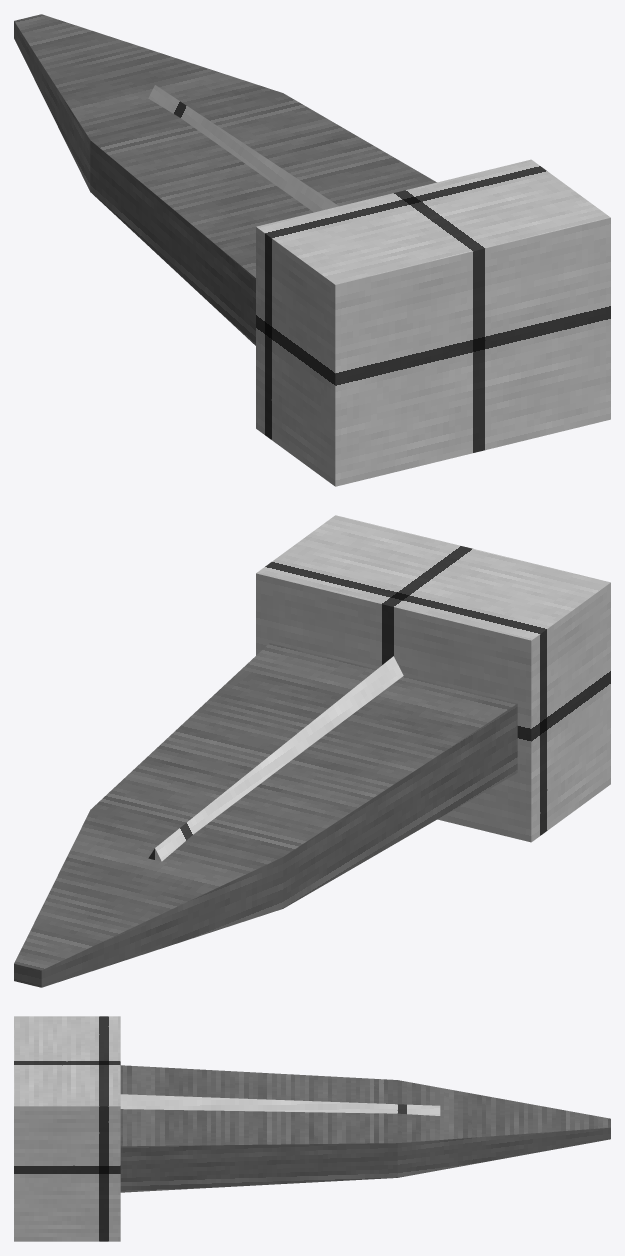
Rendered from blade_aphelion.glb.
The picture shows the model from 3 angles, top to bottom: view 1: azimuth 30°, elevation 25°; view 2: azimuth 150°, elevation 25°; view 3: azimuth 270°, elevation 25°; orthographic projection. The views are drawn at different scales.
Parts seen in each view (by area): view 1: bracket, blade, spine; view 2: blade, bracket, spine; view 3: blade, bracket, spine.
Part boxes in pixels (bbox=[...]): bracket: bbox=[256, 159, 610, 486]; blade: bbox=[14, 14, 436, 345]; spine: bbox=[148, 85, 338, 212]; blade: bbox=[14, 643, 517, 987]; bracket: bbox=[256, 515, 610, 842]; spine: bbox=[148, 656, 403, 861]; blade: bbox=[120, 1065, 610, 1192]; bracket: bbox=[14, 1016, 120, 1241]; spine: bbox=[120, 1094, 440, 1115].
Size of the model in its own units: 10 by 7 by 28.
3 materials, 3 textured.
